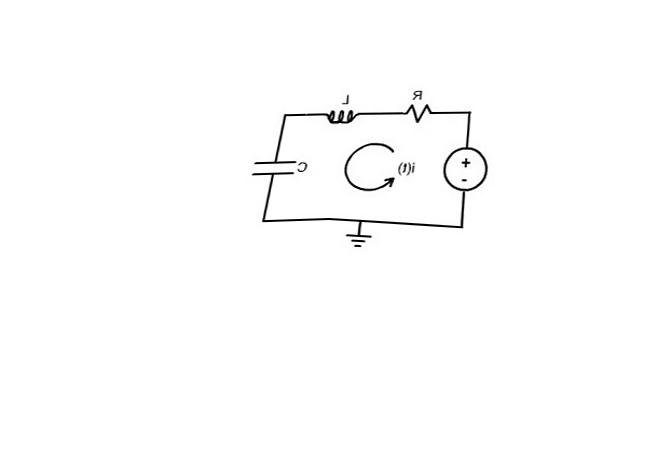Battery: (429, 142, 499, 207)
